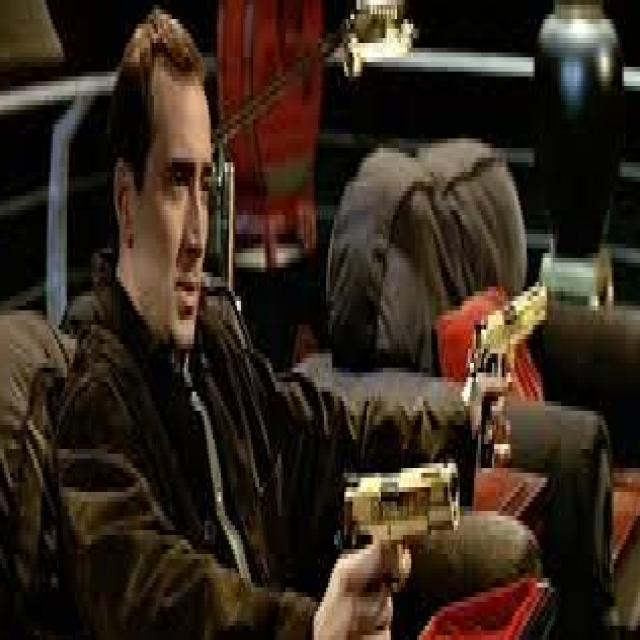gun: (334, 446, 465, 636), (462, 259, 551, 488)
